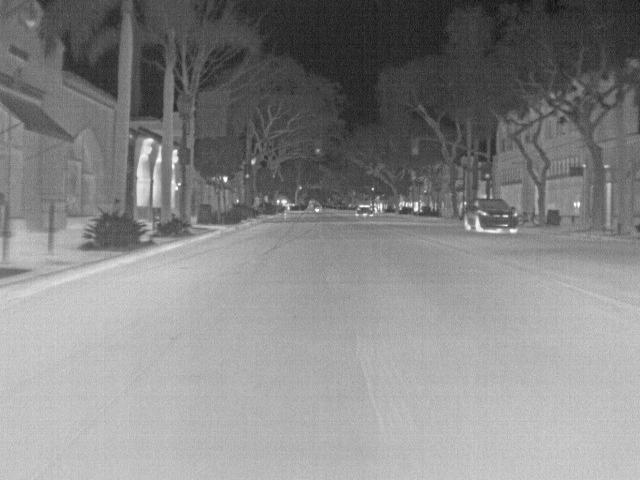car: (463, 197, 519, 235), (354, 204, 374, 218)
